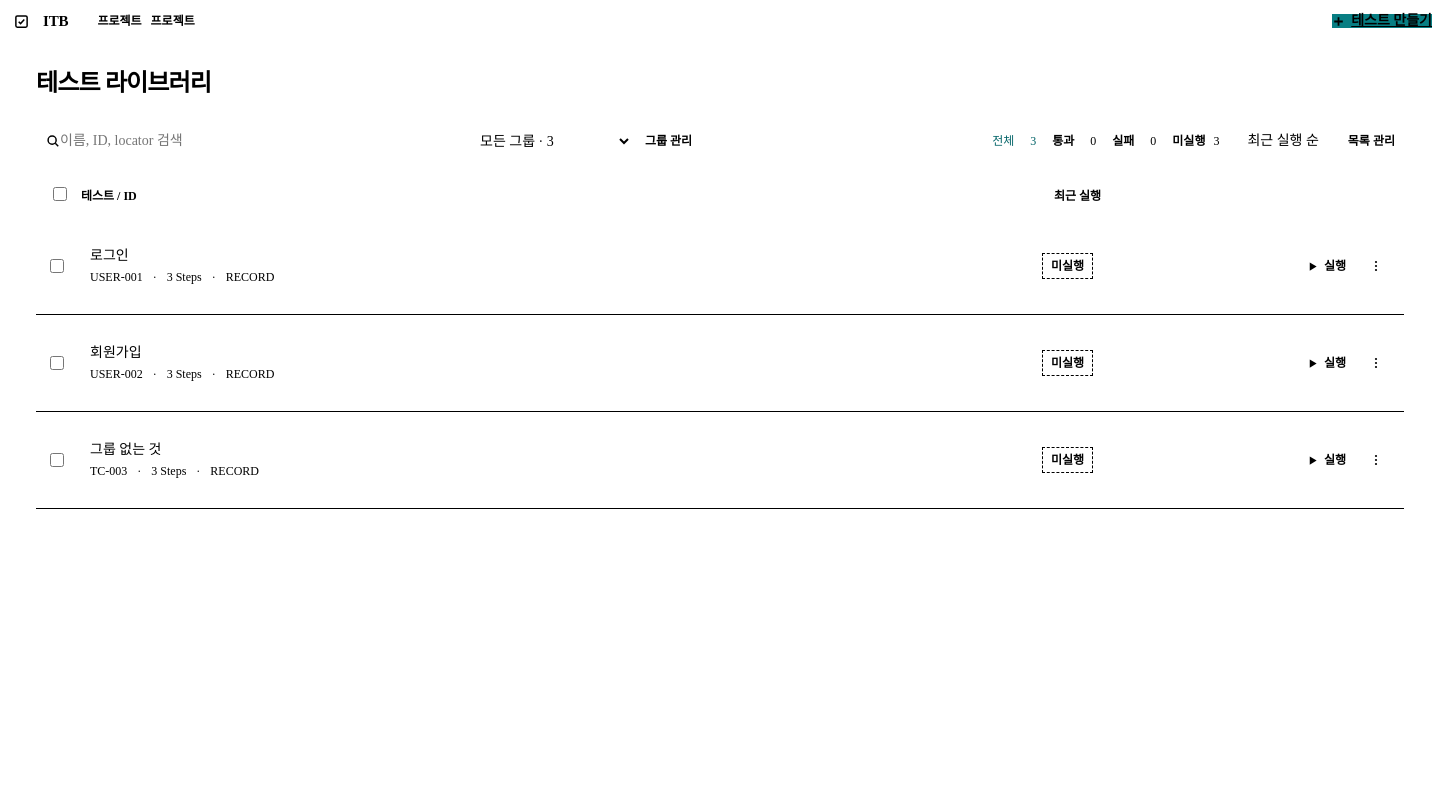
그룹 정리 › 없애기에는 확인이 있고 **「지워지지 않습니다」를 말한다** (FR-451)
Check: the text "로그인" is shown, box left=90, top=248, right=129, bottom=263
Select "사용자관리 테스트 · 2" in the dropdown named "그룹으로 거르기" at (549, 141), box left=466, top=124, right=632, bottom=158
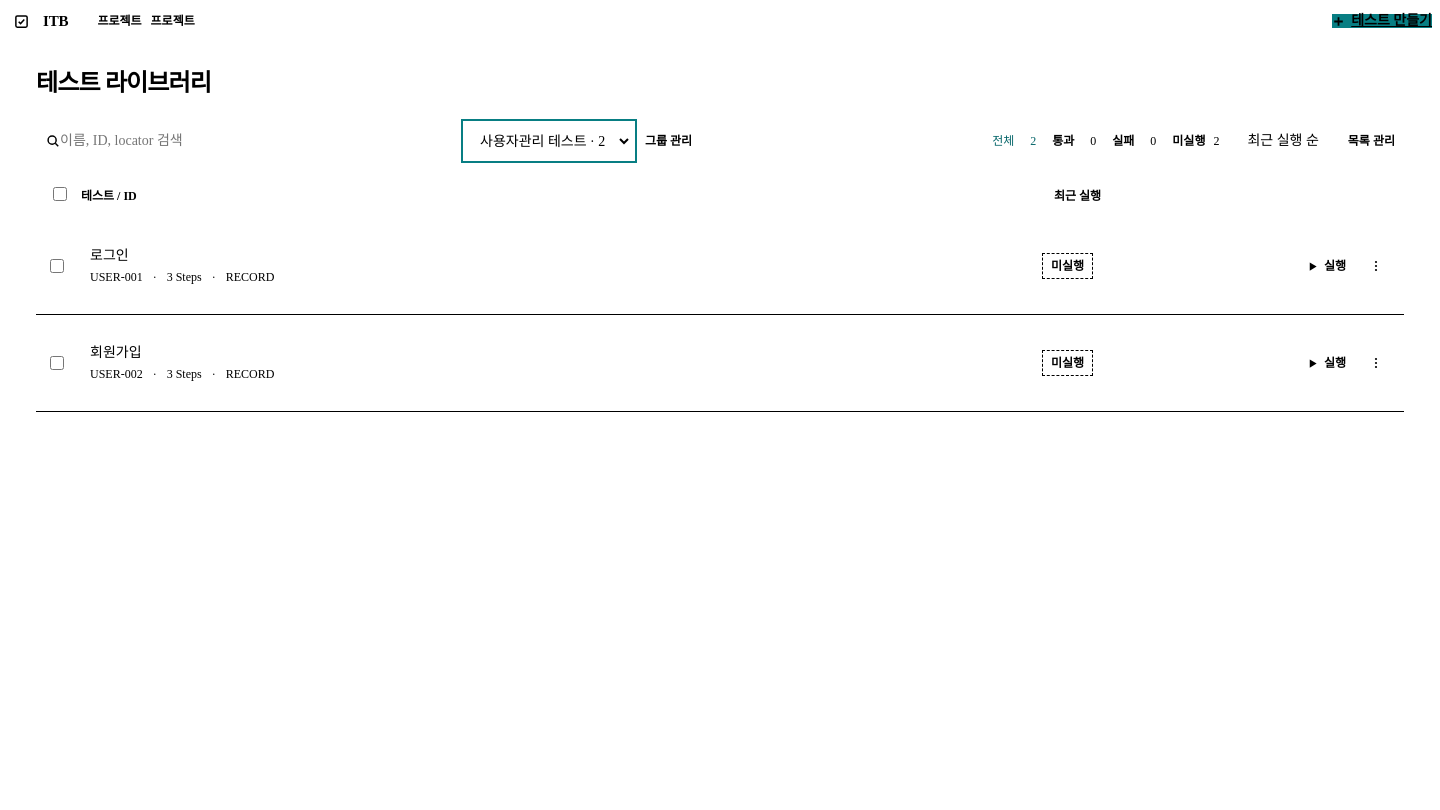
Click the button "그룹 관리" at (669, 141), box left=636, top=134, right=701, bottom=148
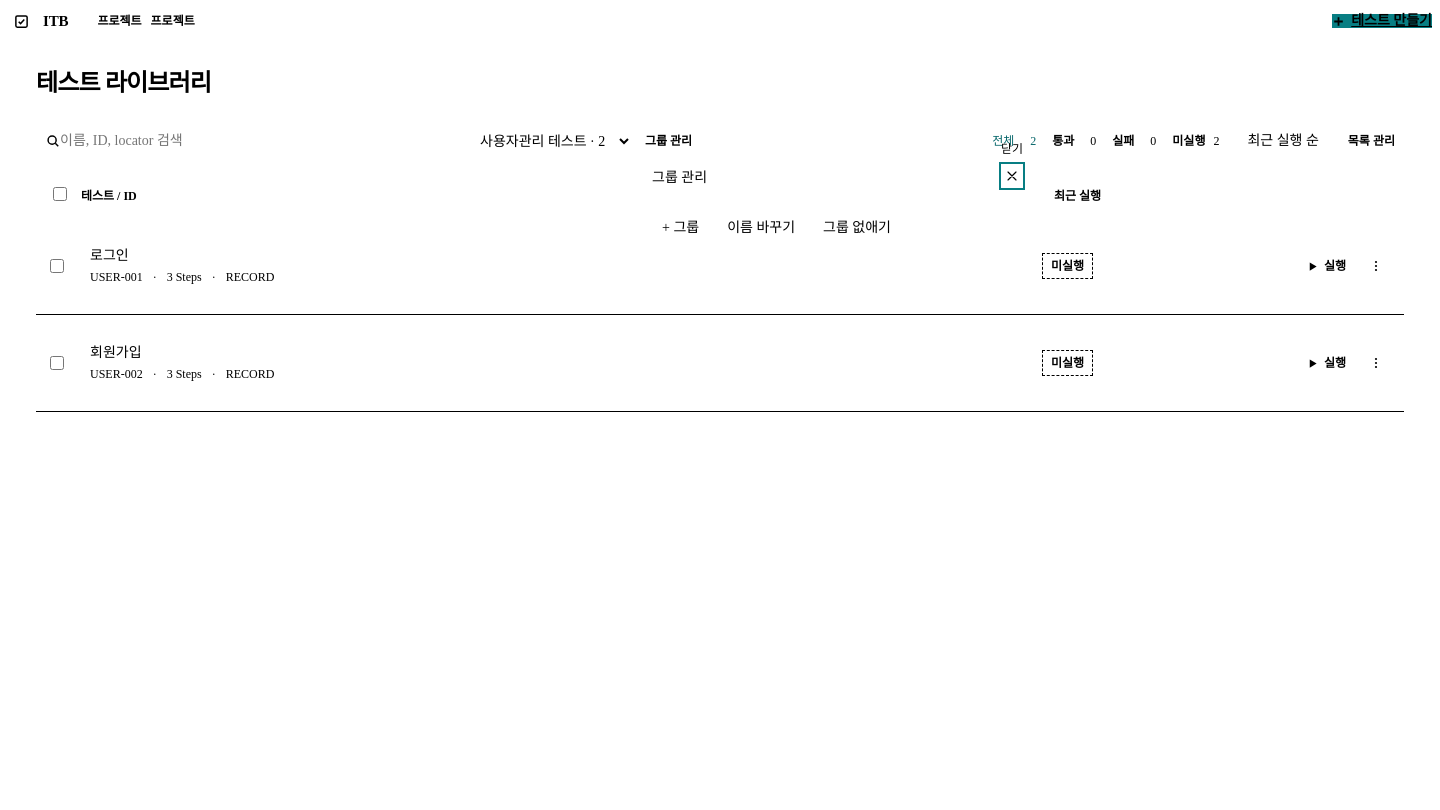
Click the button "그룹 없애기" at (857, 228), box left=813, top=214, right=901, bottom=242
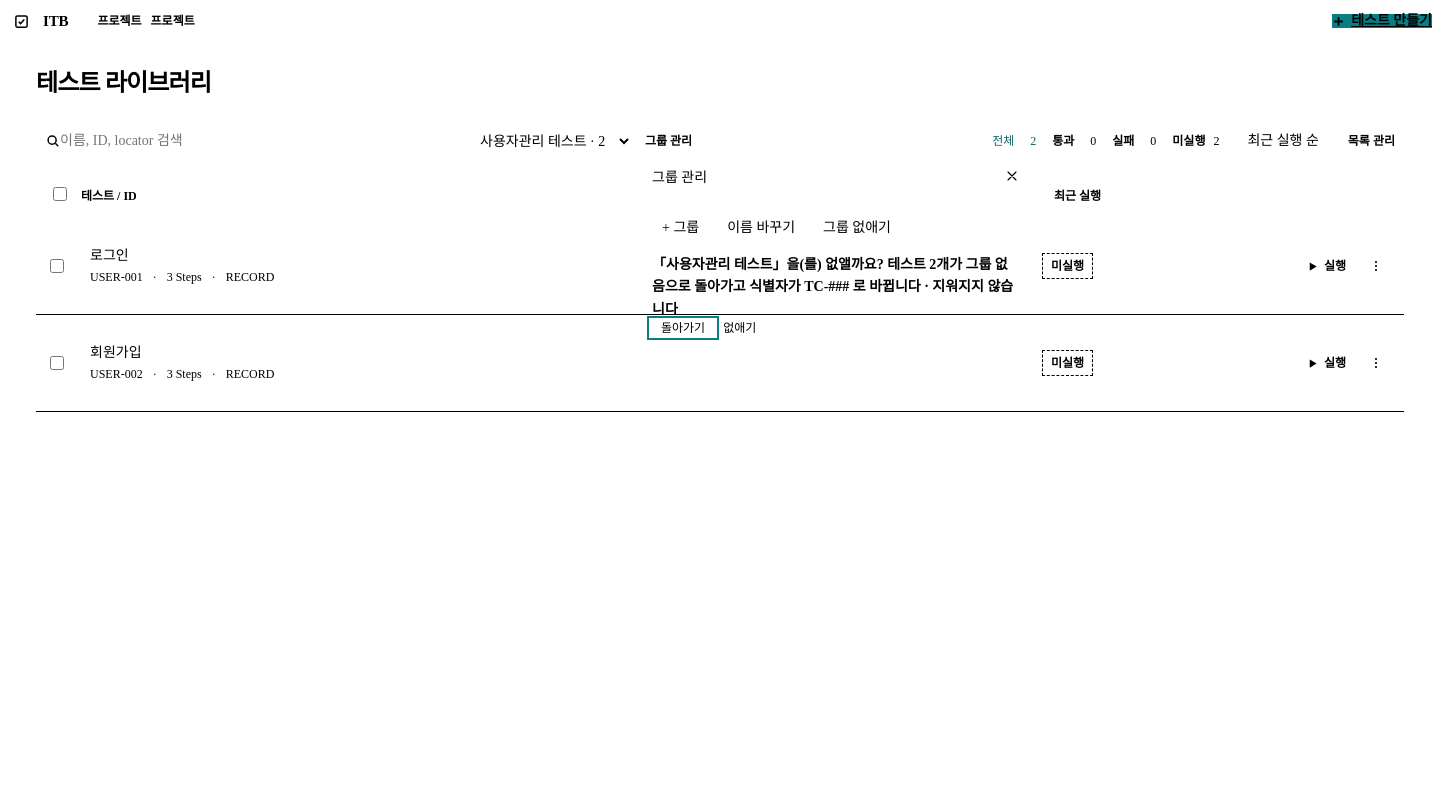
Check: the message shows "지워지지 않습니다", box left=652, top=257, right=1013, bottom=317
Check: the message shows "TC-###", box left=652, top=257, right=1013, bottom=317
